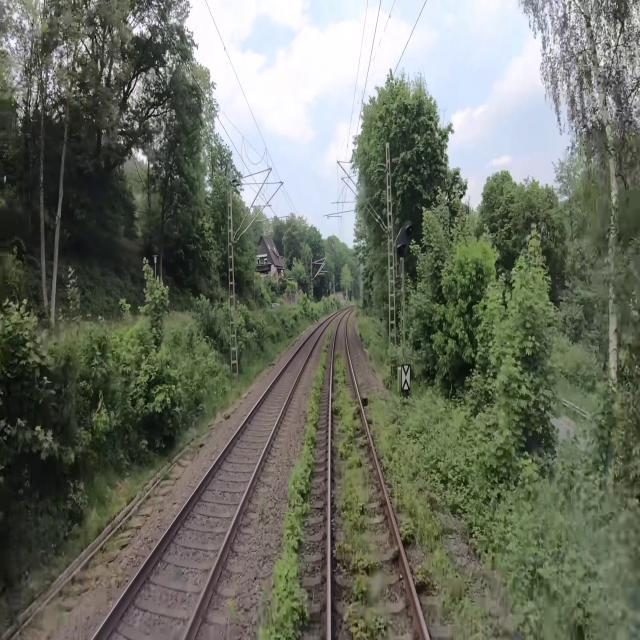Plant: (367, 391, 506, 639), (256, 327, 332, 639), (331, 348, 386, 639), (228, 595, 235, 617)
